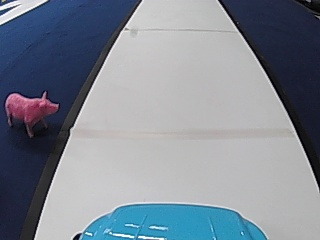pig: (3, 87, 59, 136)
